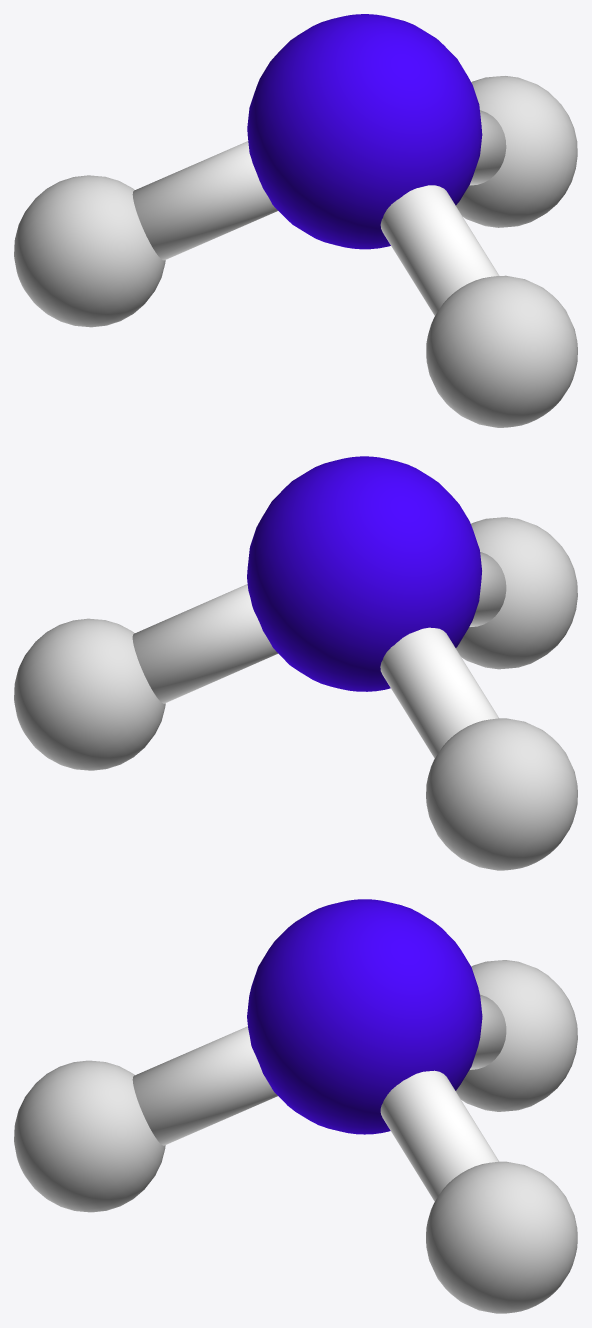
The picture shows the model from 3 angles, top to bottom: view 1: azimuth 30°, elevation 25°; view 2: azimuth 150°, elevation 25°; view 3: azimuth 270°, elevation 25°; orthographic projection.
Visible parts, largest first — view 1: h4; view 2: h4; view 3: h4.
Boxes of the visible parts, x1,y1,x2,y2 form: h4: (14,14,577,427); h4: (14,456,577,870); h4: (14,899,577,1313).
Bounding box in the file's own units: 412 × 215 × 370.
